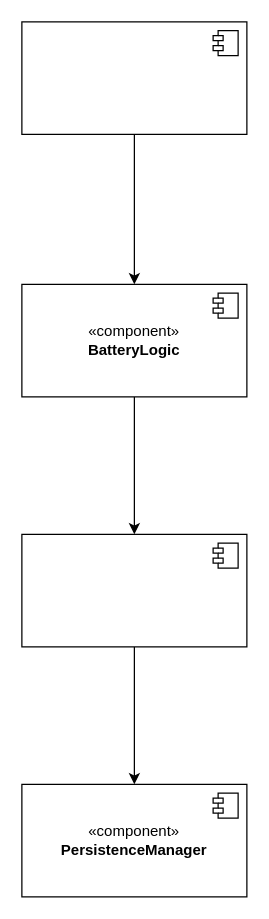
This 269x919 diagram has some shape labels left out. Here are the shapes that lost their labels. From the top down, the centre of each, then its label:
the point at 134,77: «component» UserInterface
the point at 134,590: «component» HardwareAbstraction
